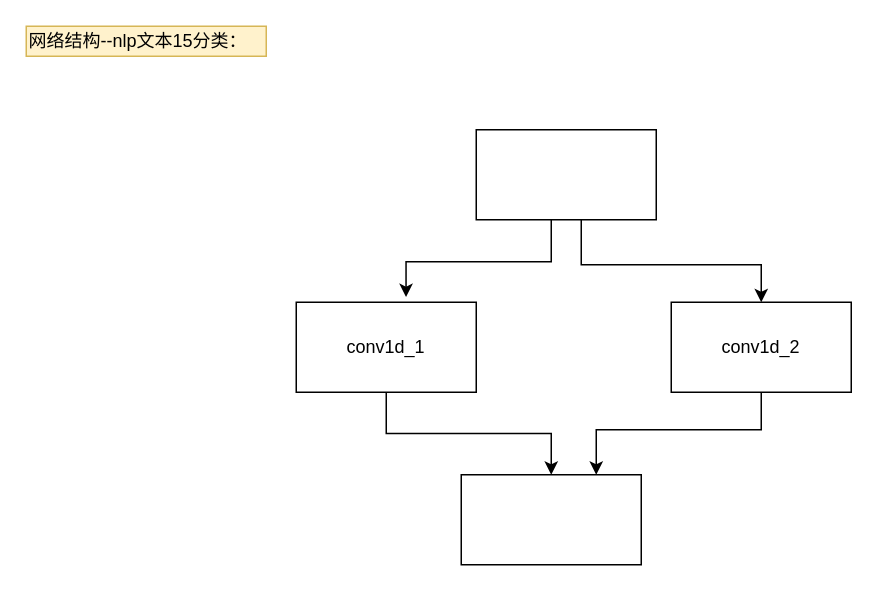
This 878x591 diagram has some shape labels left out. The shapes that lost their labels are listed below. From the top down, each one's centre as x and y in pixels, then its label:
At pixel 565 174: "embeding".
At pixel 550 519: "output".
